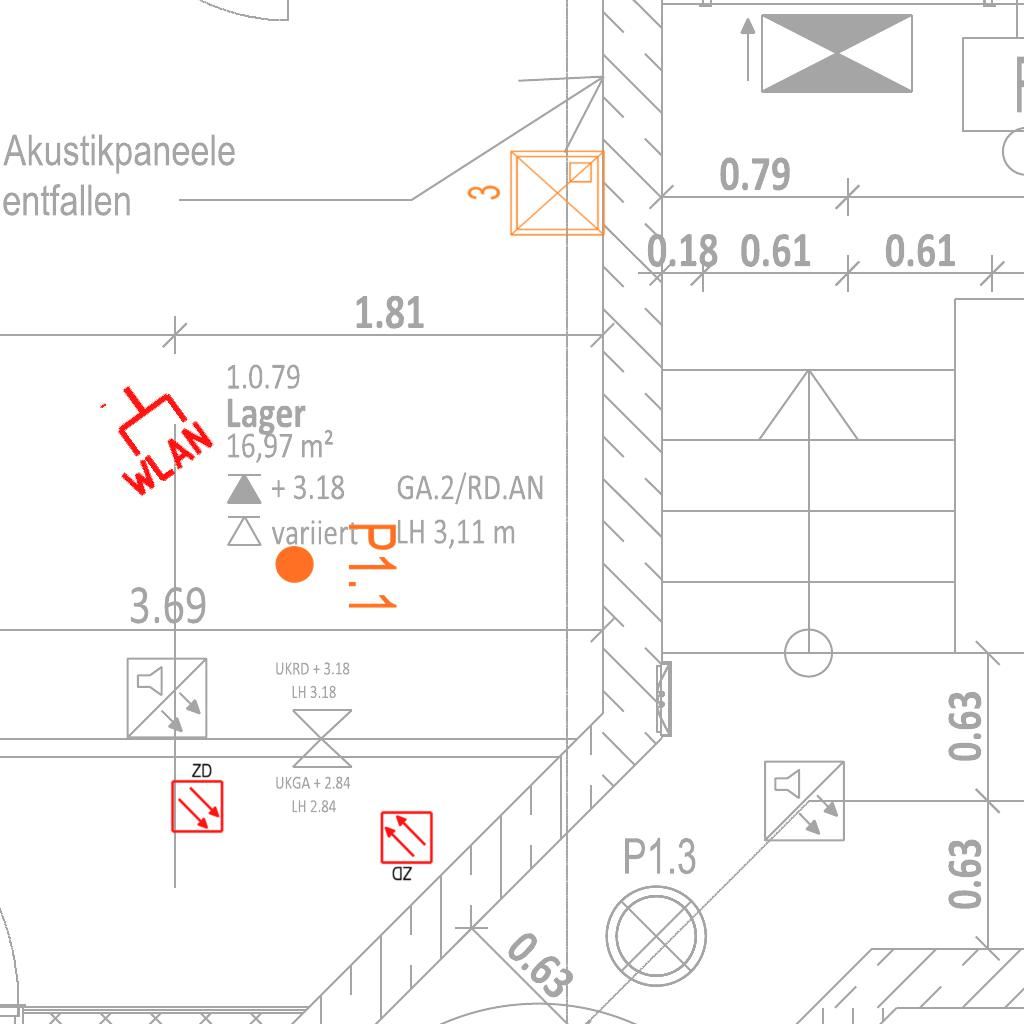Downlight_LED_Einbauleuchten_Flur: (272, 521, 400, 614)
Einbaudownlights_LED_Konferenzraeume: (462, 143, 612, 247)
WLAN: (73, 358, 220, 506)
ZD_Melder_in_Zwischendecke_mit_Revisionsoeffnung_mind_40_x_40_cm: (379, 810, 436, 884), (168, 760, 225, 834)
